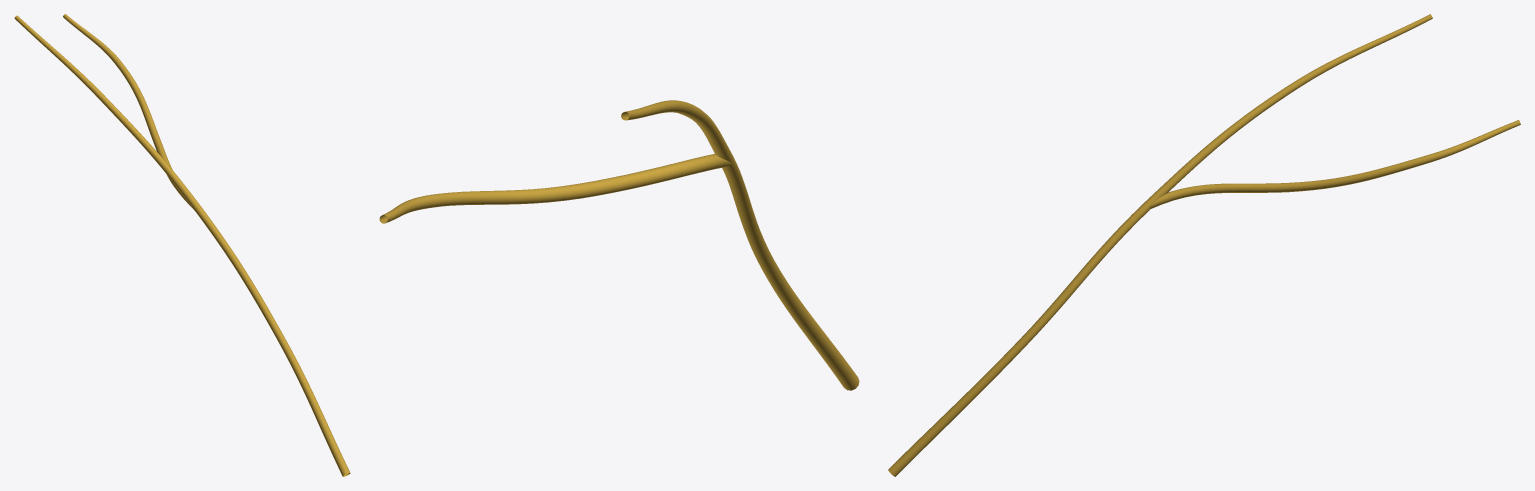
3 renders of one model, left to right at view 1: azimuth 30°, elevation 25°; view 2: azimuth 150°, elevation 25°; view 3: azimuth 270°, elevation 25°, orthographic. The views are drawn at different scales.
Parts seen in each view (by area): view 1: 左侧肩胛下神经下支; view 2: 左侧肩胛下神经下支; view 3: 左侧肩胛下神经下支.
Part boxes in pixels (x1=…): 左侧肩胛下神经下支: x1=14, y1=14, x2=350, y2=476; 左侧肩胛下神经下支: x1=379, y1=100, x2=859, y2=390; 左侧肩胛下神经下支: x1=888, y1=14, x2=1520, y2=476.
Bounding box in the file's own units: 0.0355 × 0.0967 × 0.1395.
